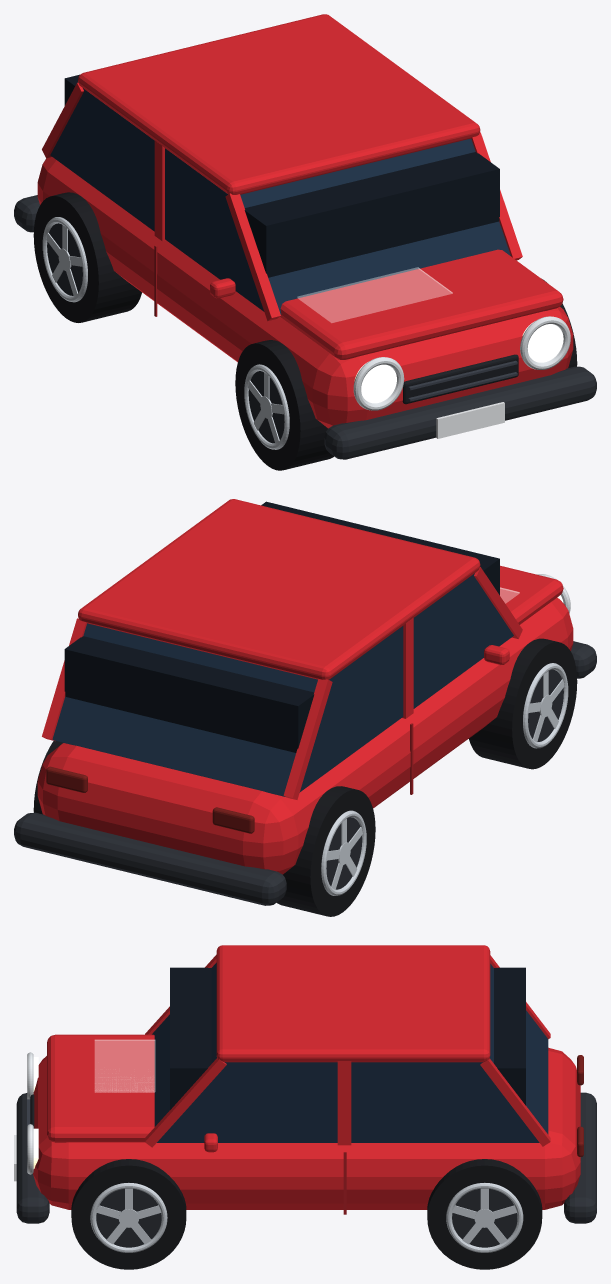
Rendered from coche_frente.glb.
The picture shows the model from 3 angles, top to bottom: view 1: azimuth 30°, elevation 25°; view 2: azimuth 150°, elevation 25°; view 3: azimuth 270°, elevation 25°; orthographic projection. The views are drawn at different scales.
Visible parts, largest first — view 1: Cube.021, Cube, Cube.020, Cube.001, parabrisas, rueda_4, rueda_2, Cube.002, ventana_tras, ventana, Cube.022, Cube.004 (+10 smaller); view 2: Cube.021, Cube, Cube.020, medallon, Cube.003, rueda_2, rueda_4, ventana_tras, ventana, Cube.001, Cube.016, Cube.014 (+5 smaller); view 3: Cube.021, Cube, ventana_tras.001, ventana.001, Cube.001, rueda_1, rueda_3, Cube.020, Cube.022, medallon, Cube.003, Cube.002 (+4 smaller).
Part boxes in pixels (x1,y1,x2,y2): Cube.021: (78, 14, 480, 194); Cube: (37, 157, 573, 428); Cube.020: (64, 74, 499, 277); Cube.001: (280, 249, 563, 359); parabrisas: (240, 138, 510, 314); rueda_4: (33, 192, 141, 322); rueda_2: (235, 340, 333, 470); Cube.002: (324, 366, 596, 459); ventana_tras: (50, 88, 154, 231); ventana: (165, 148, 264, 311); Cube.022: (297, 267, 452, 322); Cube.004: (402, 354, 518, 404); Cube.021: (78, 499, 480, 679); Cube: (37, 597, 573, 874); Cube.020: (64, 501, 499, 752); medallon: (52, 623, 317, 796); Cube.003: (14, 812, 286, 905); rueda_2: (469, 638, 577, 769); rueda_4: (277, 786, 375, 916); ventana_tras: (299, 626, 403, 792); ventana: (413, 573, 513, 708); Cube.001: (500, 565, 563, 624); Cube.016: (283, 679, 332, 799); Cube.014: (402, 618, 413, 718); Cube.021: (216, 945, 490, 1062); Cube: (33, 1047, 580, 1209); ventana_tras.001: (351, 1062, 539, 1142); ventana.001: (157, 1062, 337, 1142); Cube.001: (47, 1034, 154, 1142); rueda_1: (71, 1159, 186, 1269); rueda_3: (427, 1159, 542, 1269); Cube.020: (170, 967, 525, 1109); Cube.022: (94, 1039, 155, 1092); medallon: (490, 963, 548, 1134); Cube.003: (564, 1092, 596, 1223); Cube.002: (16, 1093, 49, 1223).
Size of the model in its own units: 2.2 by 1.71 by 4.26.
